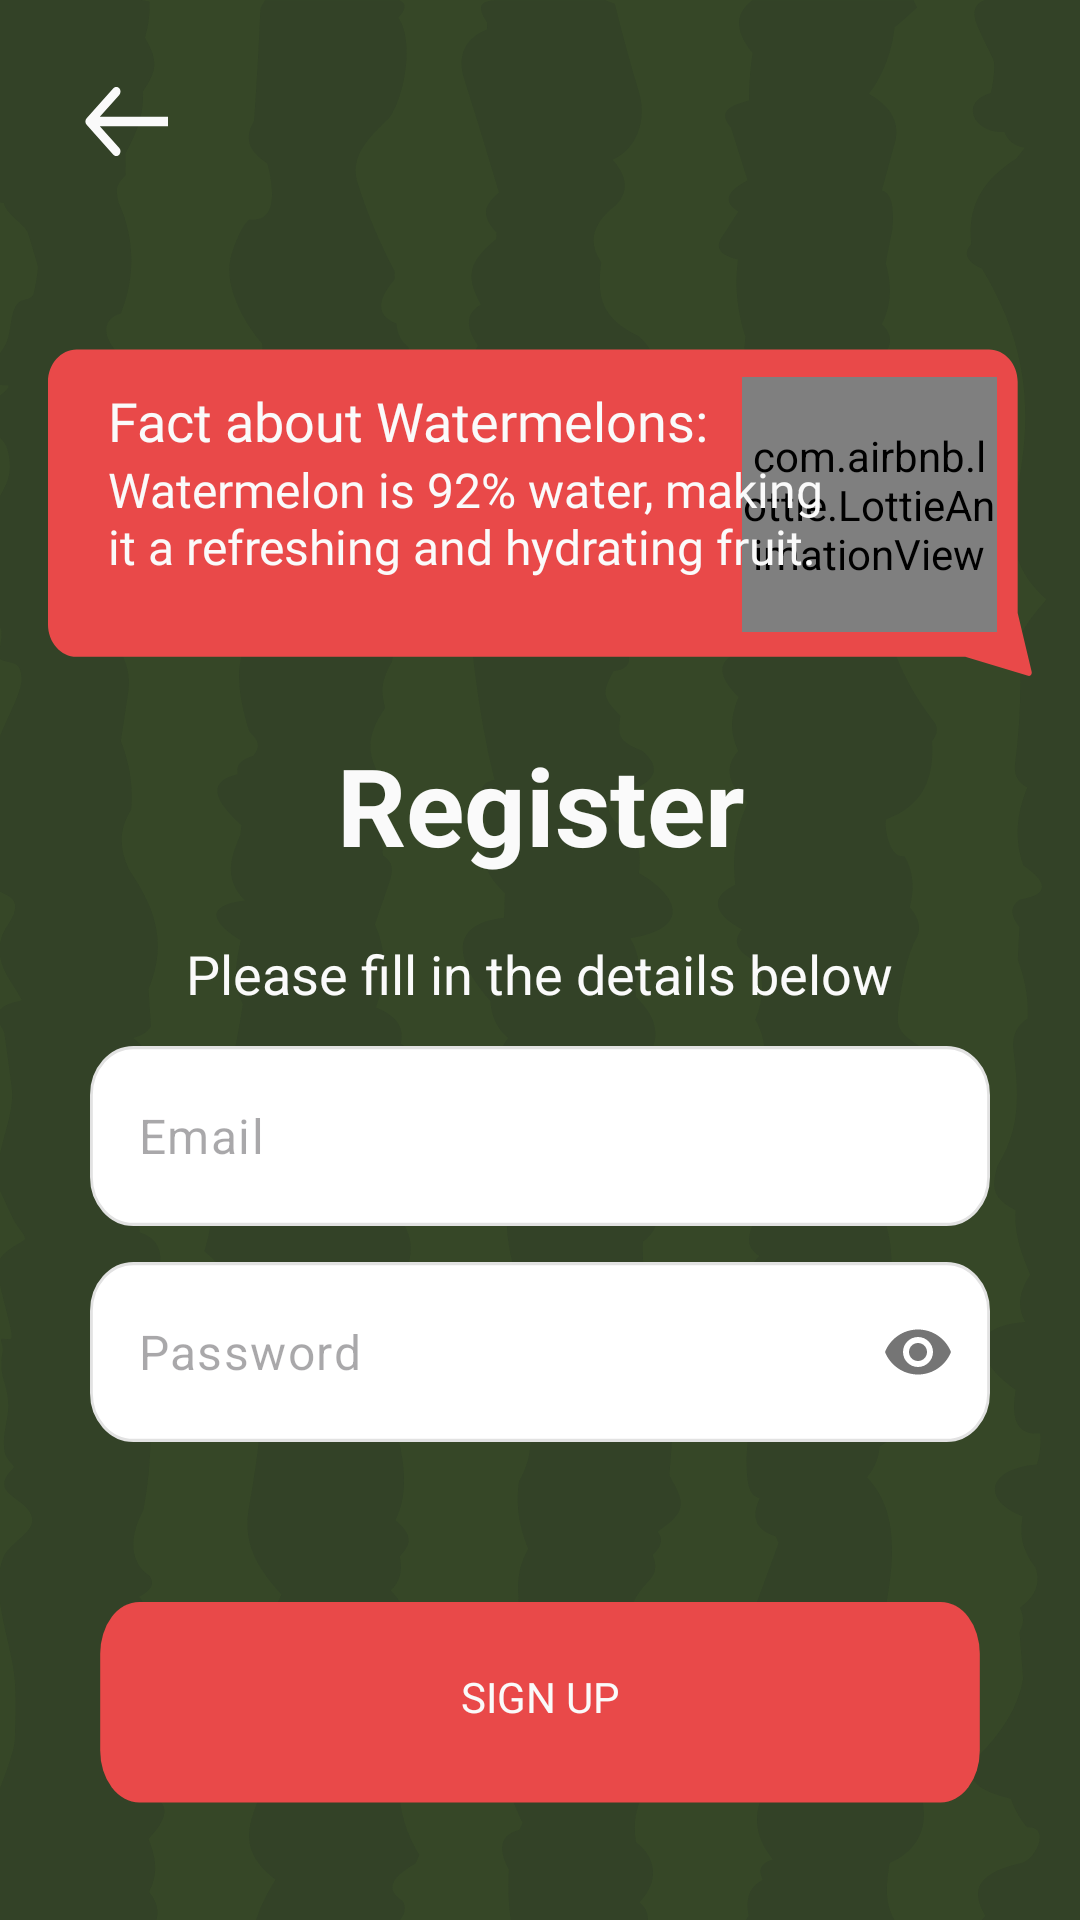

Where icons sit on this 1080px×1920px app screen, as {"x1": x1, "y1": y1, "x2": x2, "y2": y2}:
arrow: {"x1": 85, "y1": 87, "x2": 168, "y2": 156}
